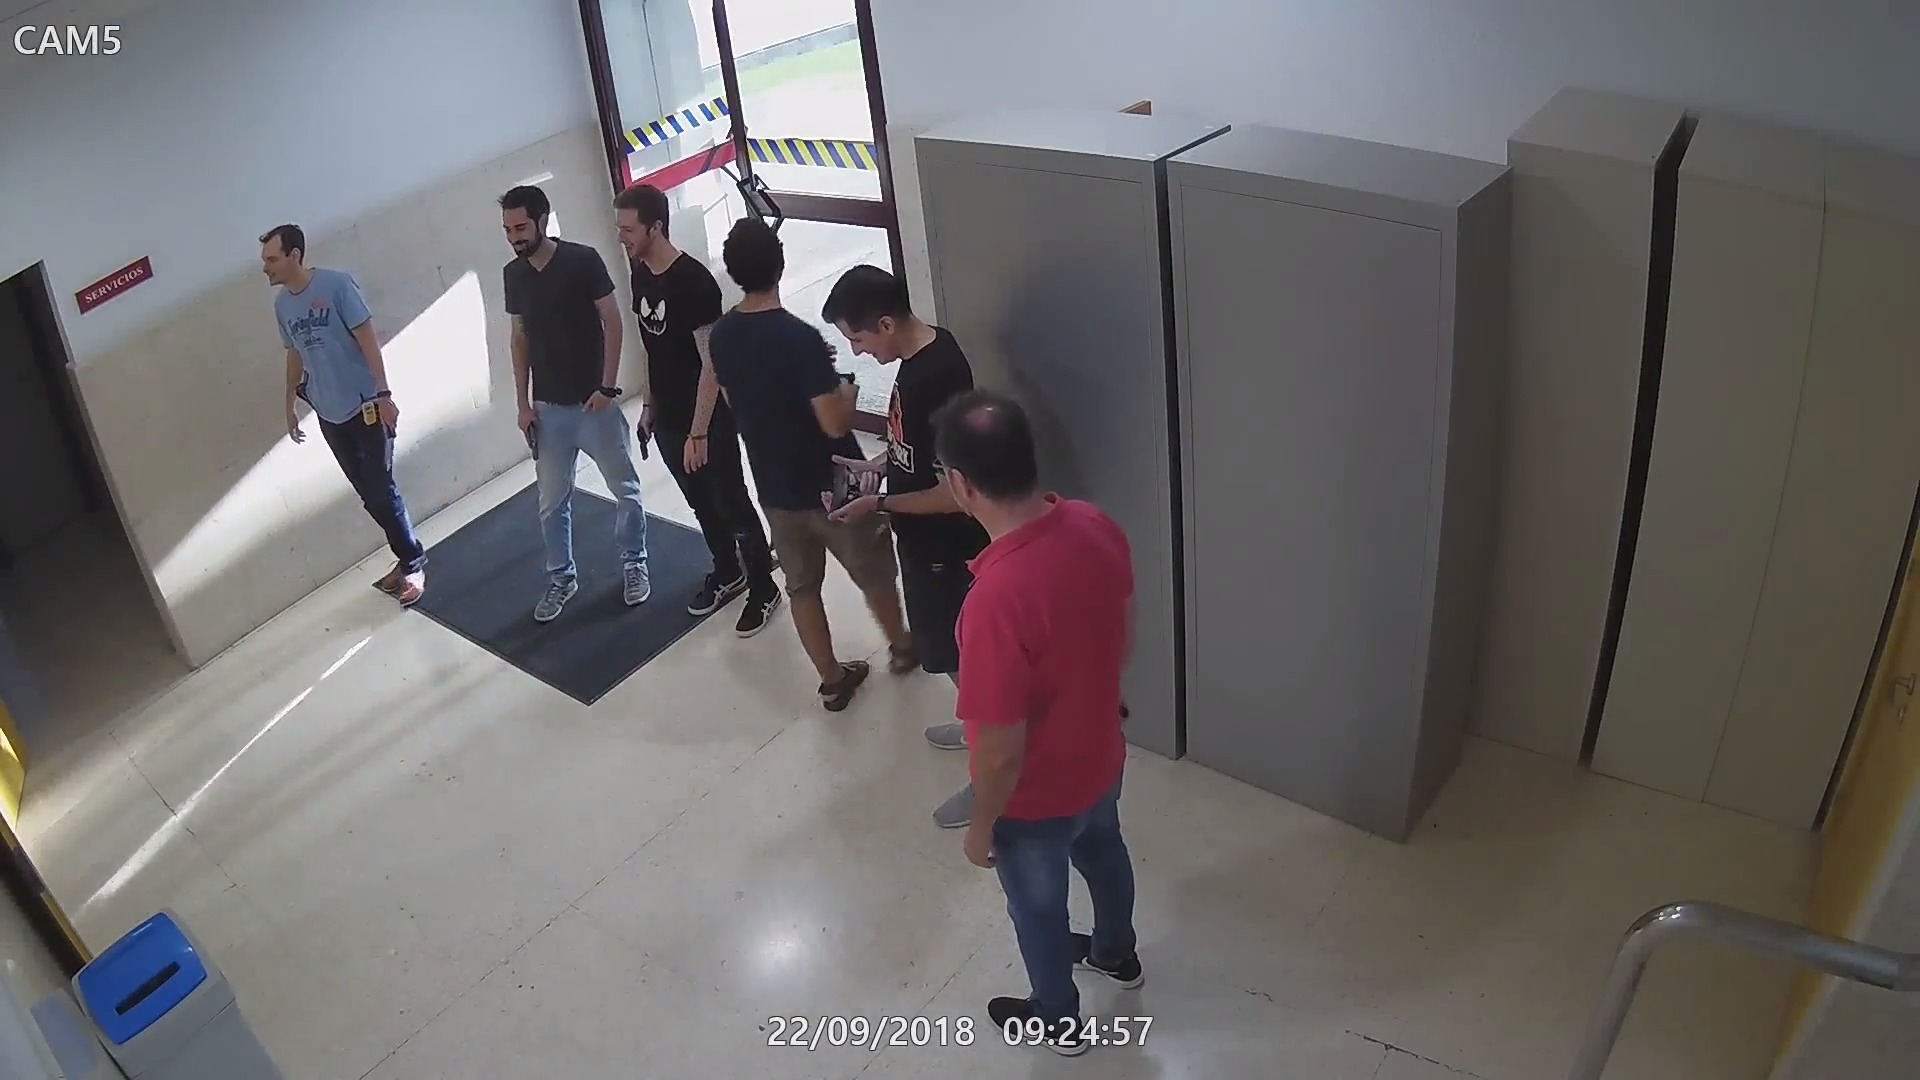Handgun: (822, 456, 885, 530), (514, 411, 547, 462), (632, 409, 658, 469), (291, 360, 316, 415)
Knife: (376, 393, 400, 487)
